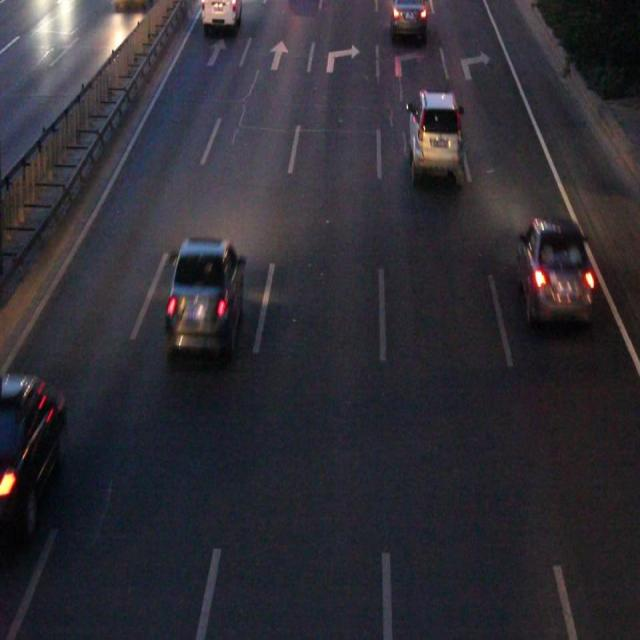car: (1, 373, 63, 537), (168, 238, 242, 356), (517, 219, 590, 324), (408, 93, 460, 177), (390, 1, 424, 37)
truck: (202, 1, 241, 31)
